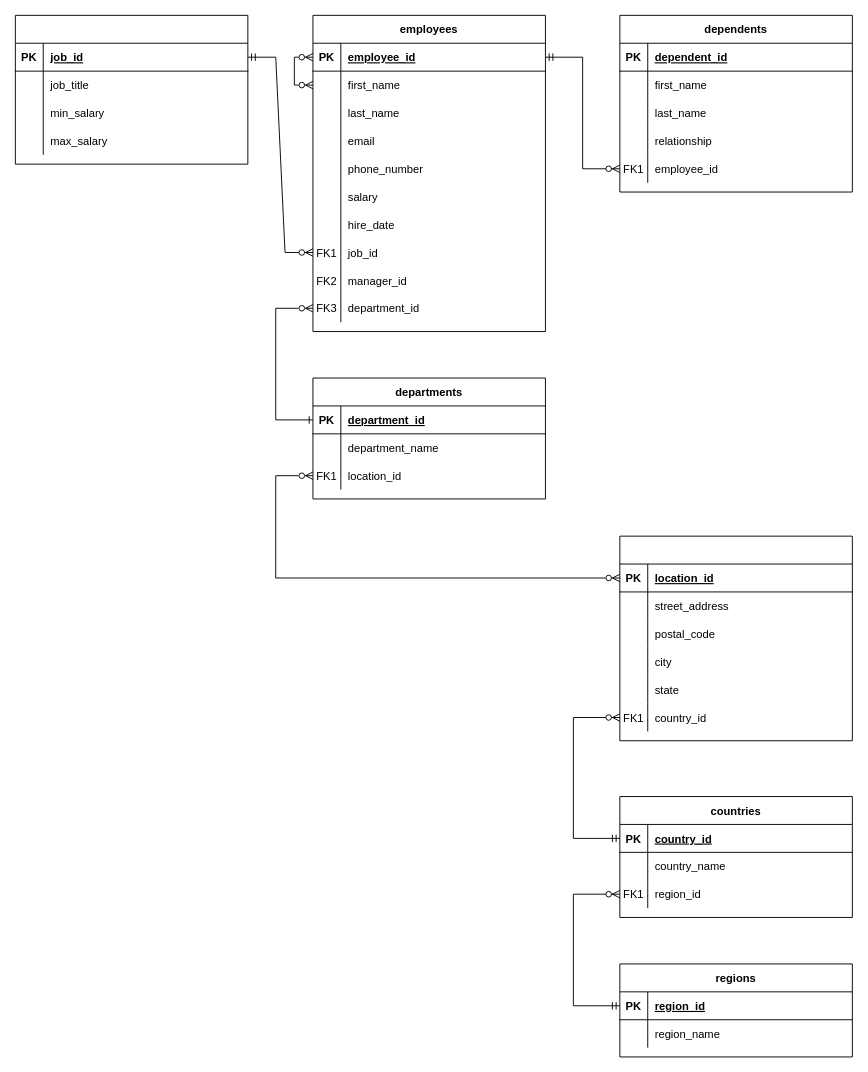
The diagram is 868 pixels wide and 1072 high, and some of its shapes have lost their labels. The shapes that lost their labels are listed below. From the top down, each one's box as (x1, y1, x2, y2) in pixels, then its label:
(14, 14, 248, 164): jobs
(619, 535, 852, 741): locations
